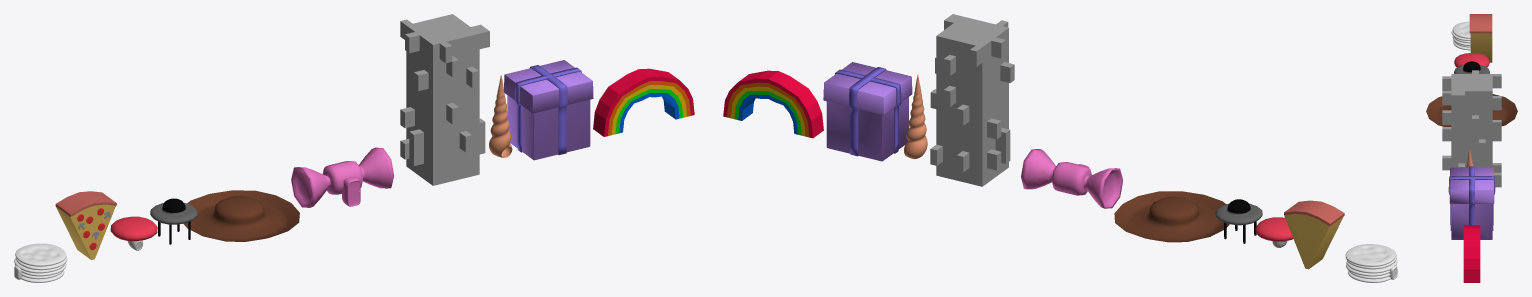
File: van alles en nog wat.fbx
3 views of the same model, side by side, from view 1: azimuth 30°, elevation 25°; view 2: azimuth 150°, elevation 25°; view 3: azimuth 270°, elevation 25° (orthographic). The views are drawn at different scales.
Parts seen in each view (by area): view 1: Cube.006, Giftbox02, Cube.004, Cube.008, Cube.005, Cube.001, Cube, Cube.007, Cube.003, Cube.002; view 2: Cube.006, Giftbox02, Cube.004, Cube.008, Cube.005, Cube.001, Cube, Cube.007, Cube.003, Cube.002; view 3: Cube.006, Giftbox02, Cube.008, Cube.001, Cube.004, Cube, Cube.002, Cube.003, Cube.007.
Boxes of the visible parts, bbox=[...] form: Cube.006: bbox=[400, 14, 489, 185]; Giftbox02: bbox=[504, 60, 593, 160]; Cube.004: bbox=[183, 190, 299, 241]; Cube.008: bbox=[593, 68, 694, 136]; Cube.005: bbox=[291, 147, 394, 207]; Cube.001: bbox=[55, 191, 116, 259]; Cube: bbox=[14, 243, 67, 282]; Cube.007: bbox=[489, 75, 512, 157]; Cube.003: bbox=[150, 198, 197, 244]; Cube.002: bbox=[110, 216, 157, 250]; Cube.006: bbox=[930, 14, 1014, 186]; Giftbox02: bbox=[823, 62, 912, 161]; Cube.004: bbox=[1114, 191, 1229, 242]; Cube.008: bbox=[723, 70, 823, 138]; Cube.005: bbox=[1021, 149, 1122, 208]; Cube.001: bbox=[1284, 200, 1344, 269]; Cube: bbox=[1345, 244, 1397, 282]; Cube.007: bbox=[904, 75, 927, 159]; Cube.003: bbox=[1215, 199, 1262, 243]; Cube.002: bbox=[1255, 217, 1293, 247]; Cube.006: bbox=[1442, 70, 1501, 187]; Giftbox02: bbox=[1448, 166, 1495, 239]; Cube.008: bbox=[1463, 225, 1480, 282]; Cube.001: bbox=[1469, 14, 1492, 62]; Cube.004: bbox=[1426, 94, 1517, 126]; Cube: bbox=[1451, 21, 1470, 50]; Cube.002: bbox=[1454, 53, 1489, 67]; Cube.003: bbox=[1454, 61, 1489, 73]; Cube.007: bbox=[1466, 148, 1473, 167].
Bounding box in the file's own units: 2894 × 600 × 447.
